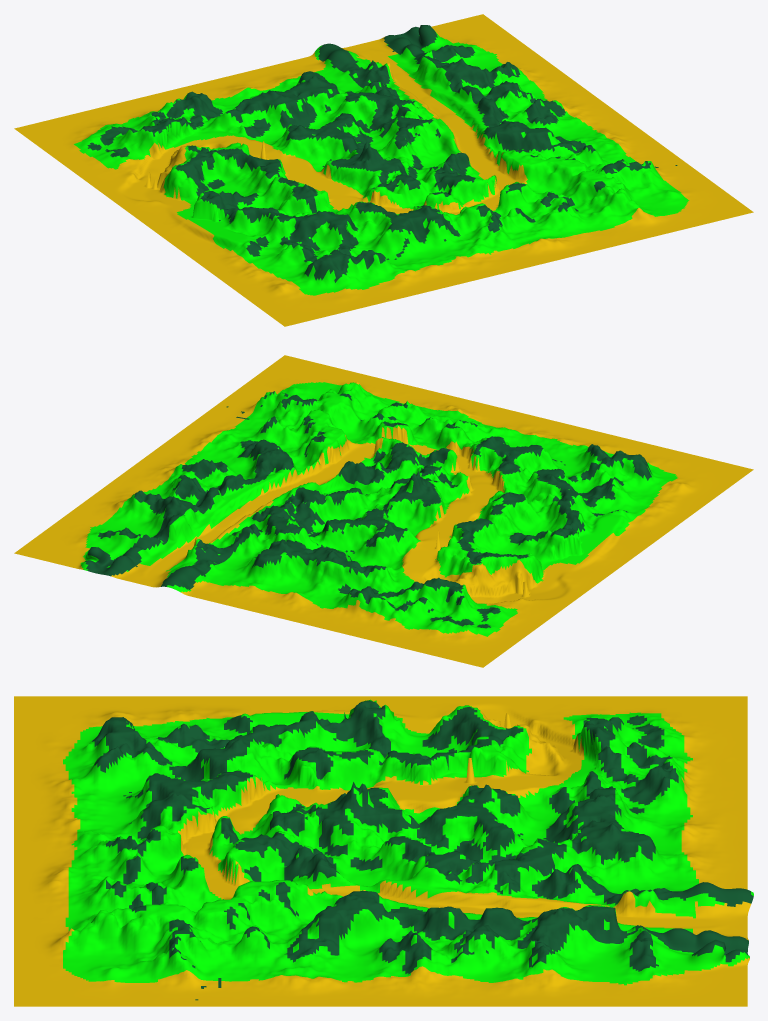
File: Landscape.glb
3 renders of one model, top to bottom at view 1: azimuth 30°, elevation 25°; view 2: azimuth 150°, elevation 25°; view 3: azimuth 270°, elevation 25°, orthographic. The views are drawn at different scales.
Visible parts, largest first — view 1: Landscape.001; view 2: Landscape.001; view 3: Landscape.001.
Boxes of the visible parts, x1=… form: Landscape.001: x1=14, y1=14, x2=753, y2=326; Landscape.001: x1=14, y1=355, x2=753, y2=667; Landscape.001: x1=14, y1=696, x2=753, y2=1006.
Size of the model in its own units: 6 by 0.5626 by 6.05.
